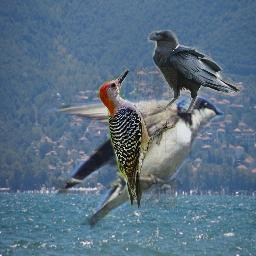Crow: (147, 30, 240, 113)
Swallow: (44, 93, 224, 231)
Woodpecker: (94, 67, 177, 208)
